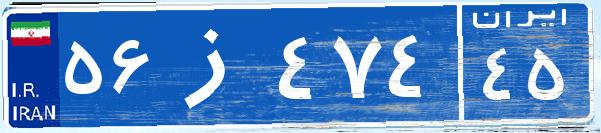4: (385, 28, 445, 110), (273, 28, 330, 110), (475, 38, 525, 113)
5: (57, 26, 110, 107), (525, 38, 570, 115)
6: (110, 28, 158, 105)
7: (330, 28, 385, 110)
ز: (158, 15, 273, 115)
